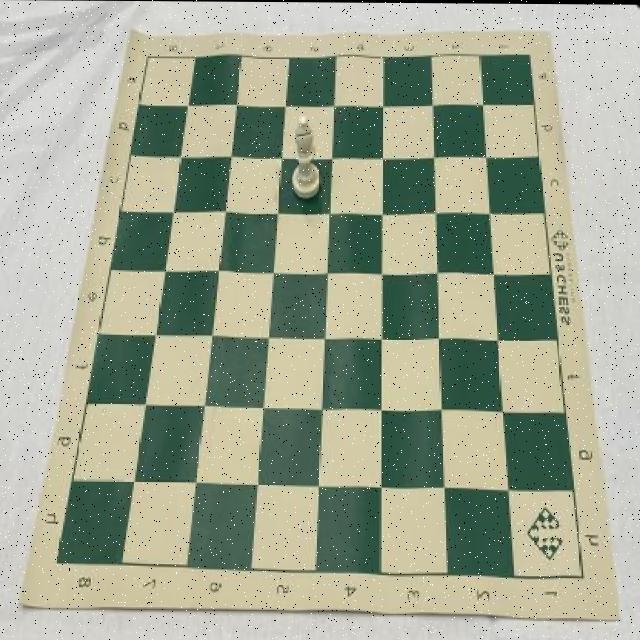black-rook: (292, 115, 322, 200)
